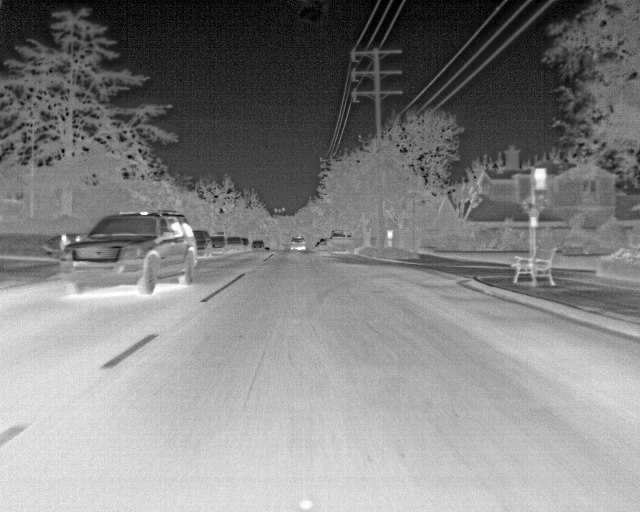vehicle: (60, 208, 197, 302), (286, 232, 310, 254)
